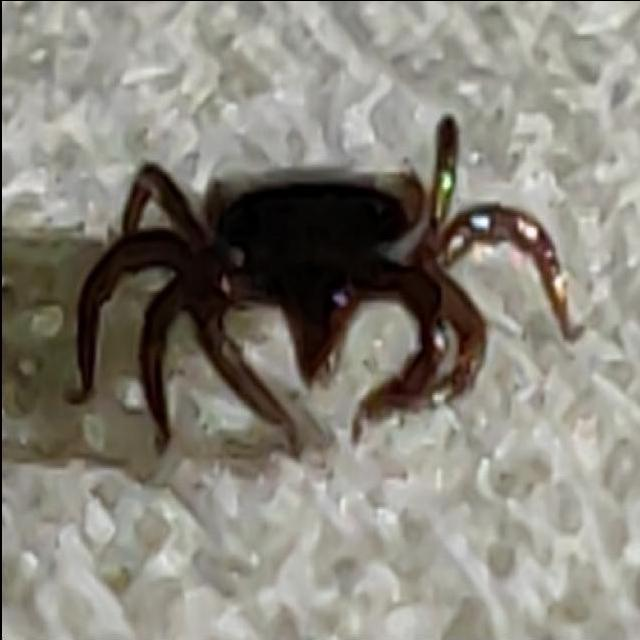Ixodes Ricinus-F: (74, 117, 577, 441)
